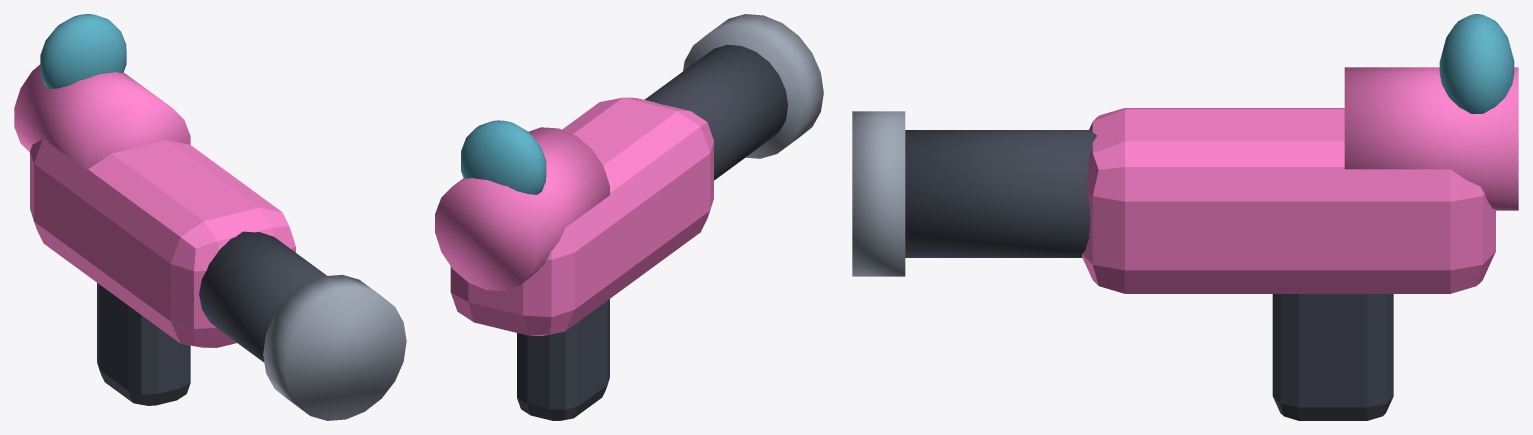
The model's file is blaster.glb.
The picture shows the model from 3 angles, left to right: view 1: azimuth 30°, elevation 25°; view 2: azimuth 150°, elevation 25°; view 3: azimuth 270°, elevation 25°; orthographic projection. The views are drawn at different scales.
Visible parts, largest first — view 1: blaster_body, muzzle, ink_canister, barrel, grip, pressure_orb; view 2: blaster_body, ink_canister, barrel, grip, muzzle, pressure_orb; view 3: blaster_body, barrel, ink_canister, grip, muzzle, pressure_orb.
Part boxes in pixels (x1,y1,x2,y2): blaster_body: (30,139,295,347); muzzle: (263,274,406,420); ink_canister: (14,64,190,170); barrel: (199,231,326,362); grip: (97,283,190,405); pressure_orb: (40,14,126,89); blaster_body: (450,97,713,335); ink_canister: (435,127,609,290); barrel: (644,44,787,180); grip: (517,299,609,420); muzzle: (683,14,823,158); pressure_orb: (461,120,546,194); blaster_body: (1082,108,1495,293); barrel: (905,130,1097,257); ink_canister: (1344,67,1518,210); grip: (1272,294,1393,420); muzzle: (852,111,905,276); pressure_orb: (1439,14,1514,113).
Bounding box in the file's own units: 0.44 × 1.15 × 1.76.
